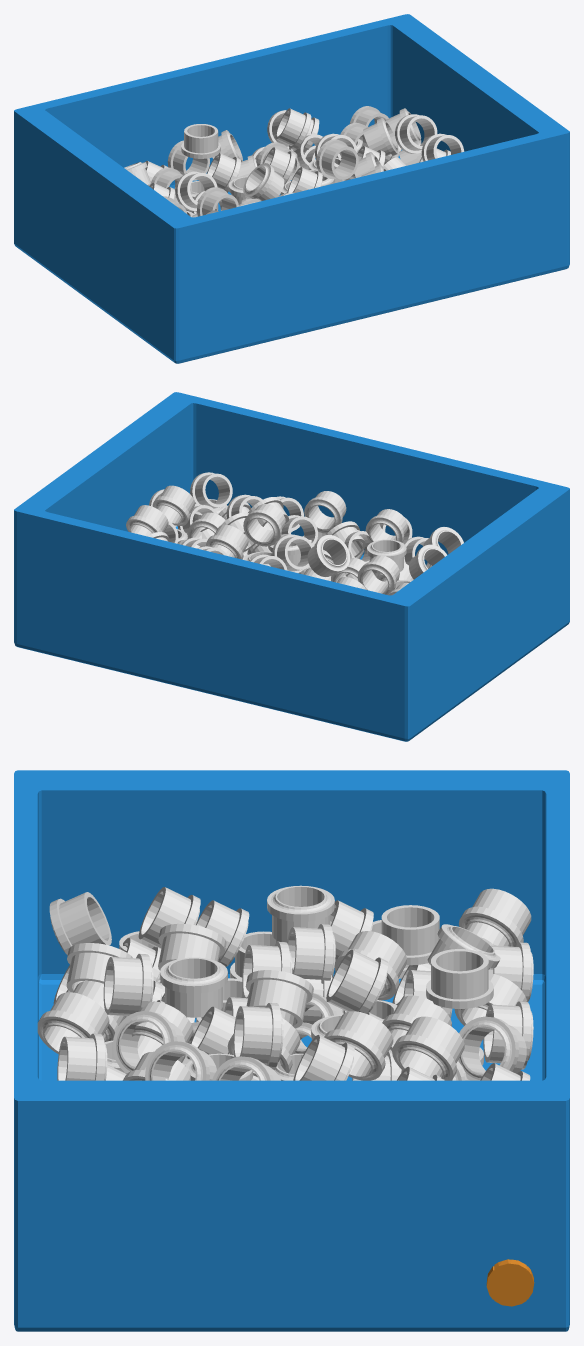
The model's file is Bin_with_guideBushing_Blue.glb.
3 views of the same model, one above another, from view 1: azimuth 30°, elevation 25°; view 2: azimuth 150°, elevation 25°; view 3: azimuth 270°, elevation 25° (orthographic). The views are drawn at different scales.
Visible parts, largest first — view 1: Bin, Guide Bushing.035, Guide Bushing.092, Guide Bushing.096, Guide Bushing.106, Guide Bushing.101, Guide Bushing.094, Guide Bushing.093, Guide Bushing.050, Guide Bushing.045, Guide Bushing.047, Guide Bushing.102 (+5 smaller); view 2: Bin, Guide Bushing.096, Guide Bushing.035, Guide Bushing.085, Guide Bushing.045, Guide Bushing.102, Guide Bushing.003, Guide Bushing.084, Guide Bushing.101, Guide Bushing.100, Guide Bushing.090, Guide Bushing.063 (+5 smaller); view 3: Bin, Guide Bushing.092, Guide Bushing.106, Guide Bushing.063, Guide Bushing.091, Guide Bushing.080, Guide Bushing.093, Guide Bushing.103, Guide Bushing.072, Guide Bushing.084, Guide Bushing.035, Guide Bushing.083 (+28 smaller).
Part boxes in pixels (x1,y1,x2,y2): Bin: (14,14,569,363); Guide Bushing.035: (316,139,358,179); Guide Bushing.092: (181,124,220,158); Guide Bushing.096: (243,163,284,200); Guide Bushing.106: (275,108,311,150); Guide Bushing.101: (395,114,437,153); Guide Bushing.094: (363,118,398,156); Guide Bushing.093: (175,171,217,211); Guide Bushing.050: (207,153,240,192); Guide Bushing.045: (197,187,238,216); Guide Bushing.047: (167,140,209,180); Guide Bushing.102: (421,133,464,161); Bin: (14,392,569,741); Guide Bushing.096: (307,535,350,576); Guide Bushing.035: (243,504,285,546); Guide Bushing.085: (304,491,346,533); Guide Bushing.045: (357,555,399,594); Guide Bushing.102: (152,485,195,525); Guide Bushing.003: (190,472,232,510); Guide Bushing.084: (365,509,407,542); Guide Bushing.101: (126,505,168,536); Guide Bushing.100: (206,524,248,559); Guide Bushing.090: (272,534,313,572); Guide Bushing.063: (367,539,406,574); Bin: (14,770,569,1331); Guide Bushing.092: (426,949,493,1008); Guide Bushing.106: (392,1016,464,1080); Guide Bushing.063: (160,957,227,1017); Guide Bushing.091: (458,888,531,946); Guide Bushing.080: (324,1011,393,1080); Guide Bushing.093: (326,949,388,1013); Guide Bushing.103: (267,885,334,942); Guide Bushing.072: (37,992,109,1053); Guide Bushing.084: (103,953,153,1016); Guide Bushing.035: (233,1003,283,1070); Guide Bushing.083: (49,892,111,955).
Bounding box in the file's own units: 0.399 × 0.13 × 0.28.
